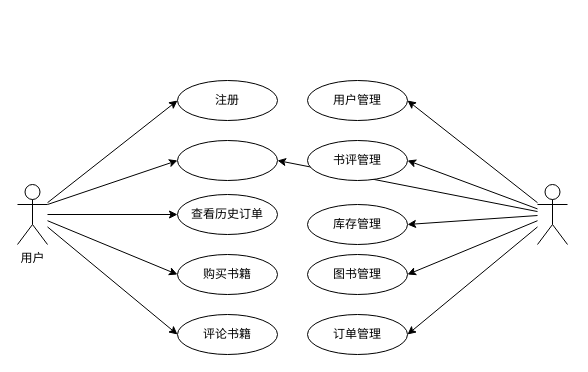
Some shapes in this 588 by 372 pixel diagram are drawn without their labels. The shapes that lost their labels are listed below. From the top down, each one's centre as x and y in pixels, then its label:
At [227,160]: "登录".
At [552,214]: "管理员".
